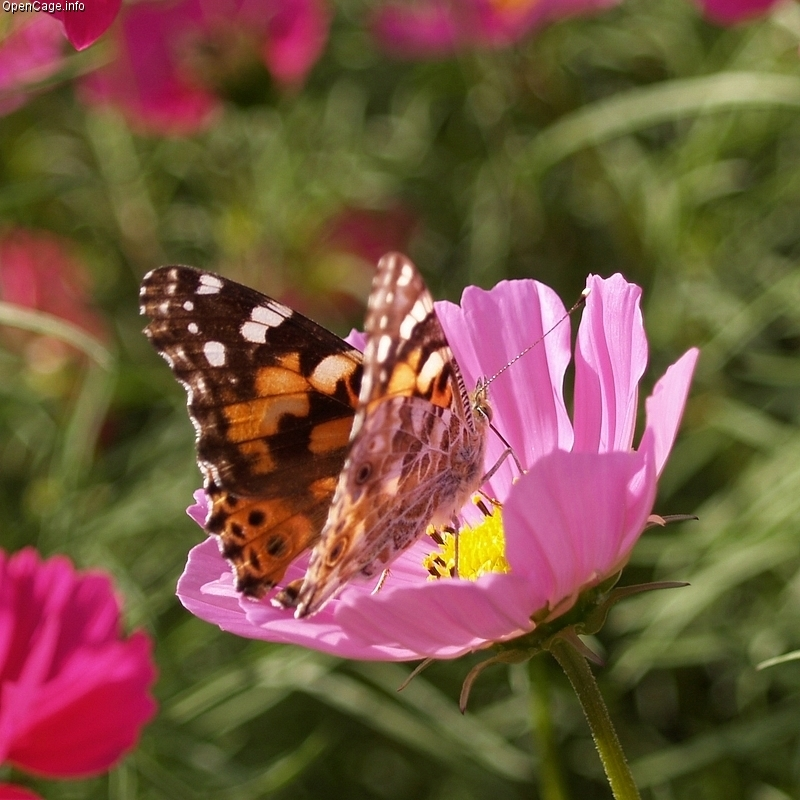Argyreus hyperbius: (134, 253, 598, 627)
butterfly: (136, 255, 600, 629)
